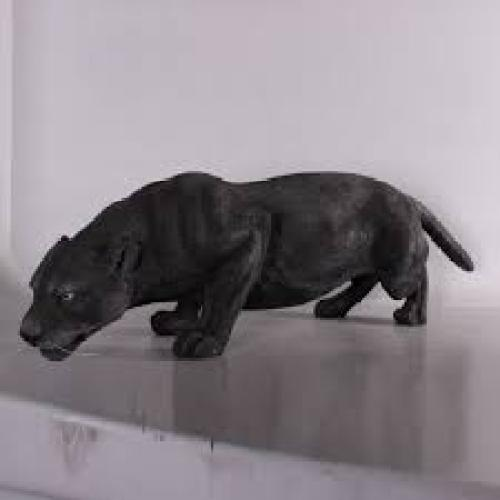panther-endangered: (18, 168, 474, 362)
